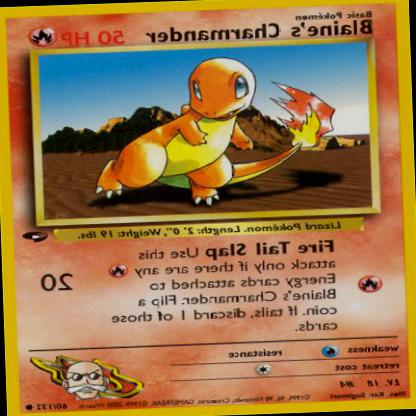Charmander: (91, 53, 320, 211)
